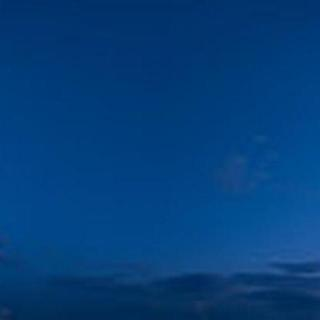Altostratus: (1, 241, 320, 320)
